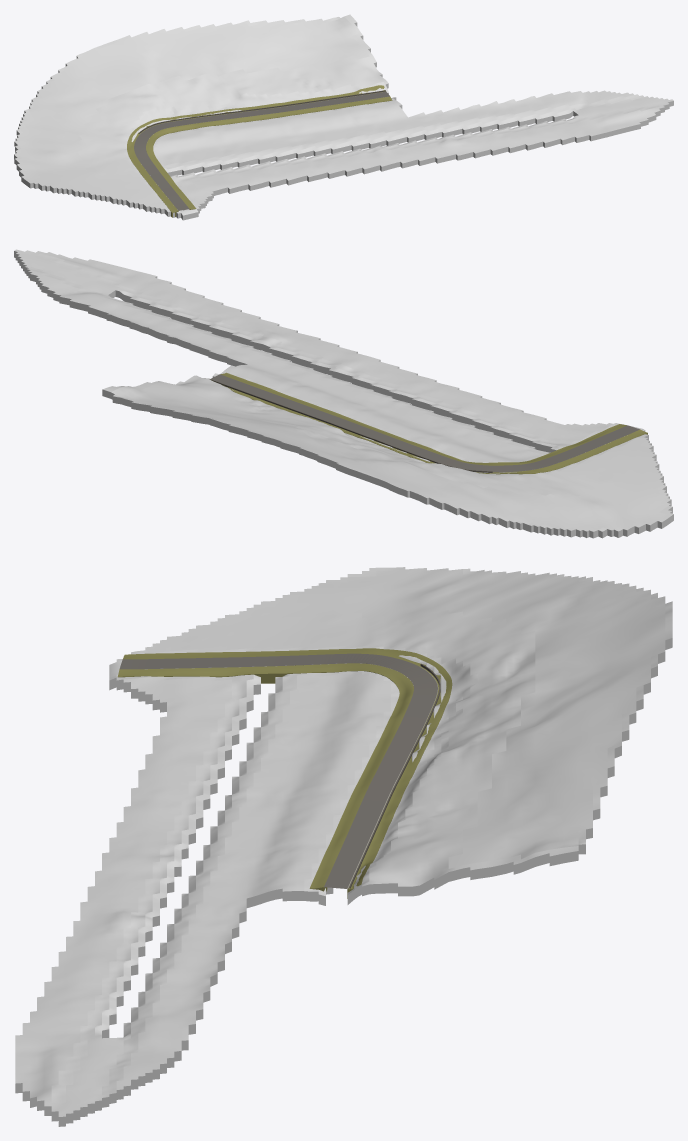
The model's file is conz_100.glb.
The picture shows the model from 3 angles, top to bottom: view 1: azimuth 30°, elevation 25°; view 2: azimuth 150°, elevation 25°; view 3: azimuth 270°, elevation 25°; orthographic projection. The views are drawn at different scales.
Visible parts, largest first — view 1: terrain100, road100, verge100L, verge100R, posts_swall100_130345; view 2: terrain100, road100, verge100L, verge100R, posts_swall100_130345; view 3: terrain100, road100, verge100L, verge100R.
Boxes of the visible parts, x1=… form: terrain100: x1=14, y1=14, x2=673, y2=220; road100: x1=134, y1=91, x2=389, y2=210; verge100L: x1=146, y1=96, x2=392, y2=209; verge100R: x1=127, y1=85, x2=384, y2=217; posts_swall100_130345: x1=138, y1=90, x2=385, y2=133; terrain100: x1=14, y1=249, x2=673, y2=538; road100: x1=210, y1=374, x2=639, y2=472; verge100L: x1=220, y1=372, x2=626, y2=465; verge100R: x1=210, y1=379, x2=647, y2=474; posts_swall100_130345: x1=208, y1=378, x2=492, y2=472; terrain100: x1=15, y1=567, x2=672, y2=1126; road100: x1=119, y1=653, x2=437, y2=888; verge100L: x1=117, y1=663, x2=413, y2=891; verge100R: x1=123, y1=648, x2=452, y2=898.
Size of the model in its own units: 362 by 38.24 by 182.
